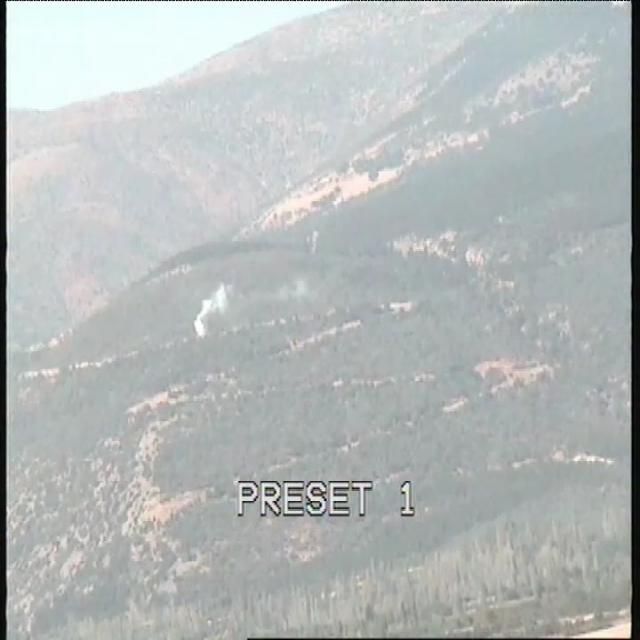smoke: (193, 280, 235, 342)
